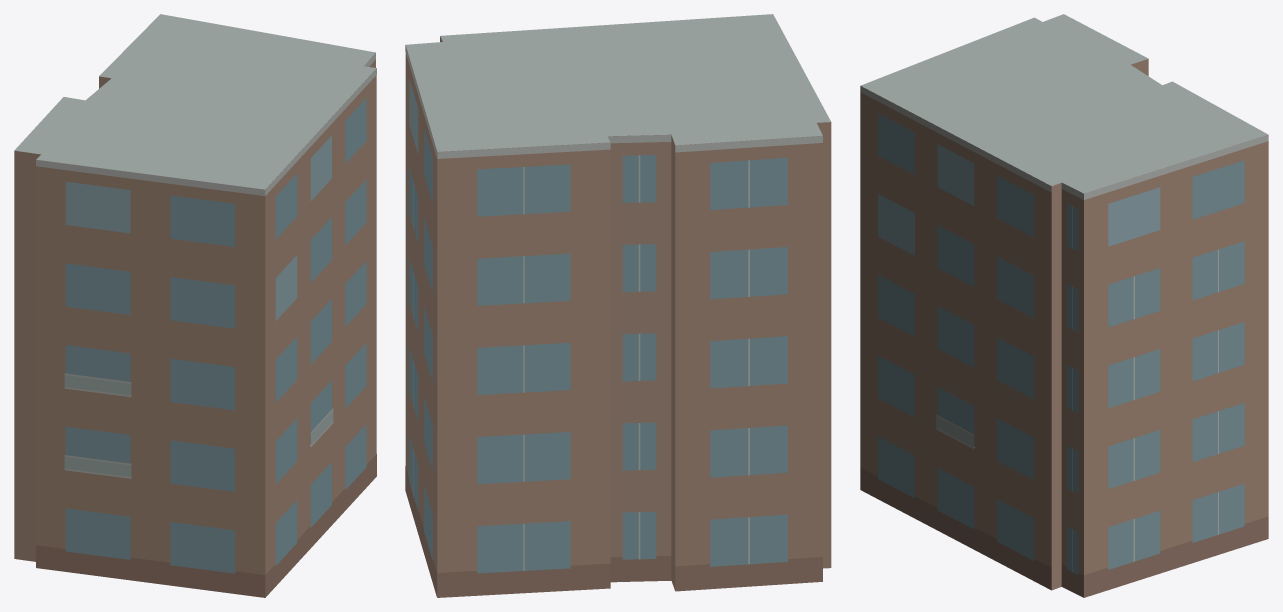
The model's file is survey-upis-32973373.glb.
3 renders of one model, left to right at view 1: azimuth 30°, elevation 25°; view 2: azimuth 150°, elevation 25°; view 3: azimuth 270°, elevation 25°, orthographic. The views are drawn at different scales.
Parts seen in each view (by area): view 1: survey-upis-32973373.tmp; view 2: survey-upis-32973373.tmp; view 3: survey-upis-32973373.tmp.
Boxes of the visible parts, left/top/right/bottom form: survey-upis-32973373.tmp: left=14, top=14, right=376, bottom=597; survey-upis-32973373.tmp: left=405, top=14, right=831, bottom=597; survey-upis-32973373.tmp: left=860, top=14, right=1268, bottom=597.
Size of the model in its own units: 14.55 by 15.25 by 13.97.
